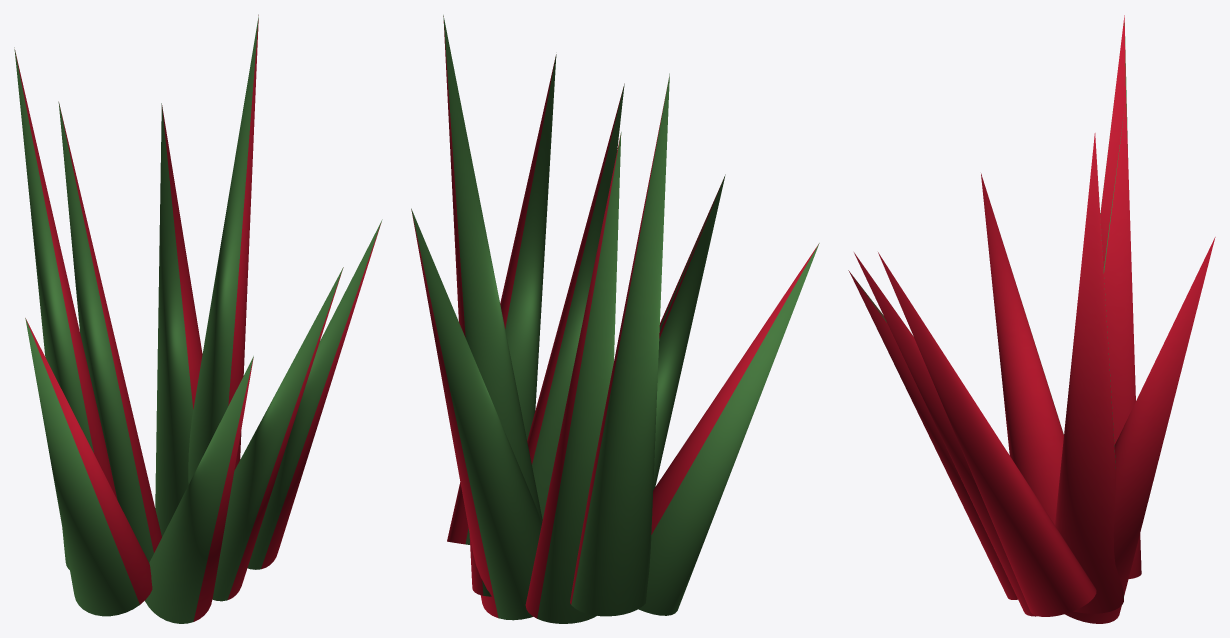
The model's file is SM_Grass.fbx.
The picture shows the model from 3 angles, left to right: view 1: azimuth 30°, elevation 25°; view 2: azimuth 150°, elevation 25°; view 3: azimuth 270°, elevation 25°; orthographic projection. The views are drawn at different scales.
Parts seen in each view (by area): view 1: Grass; view 2: Grass; view 3: Grass.
Part boxes in pixels (x1,y1,x2,y2): Grass: (14,14,382,623); Grass: (411,15,819,623); Grass: (848,15,1215,623).
Size of the model in its own units: 42.4 by 74.8 by 47.11.
